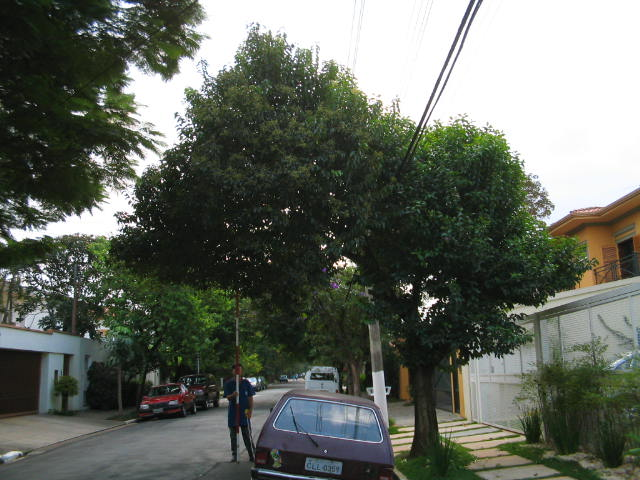crown: (114, 24, 595, 364)
stem: (398, 363, 454, 459)
stick: (230, 291, 245, 463)
tree: (111, 23, 596, 461)
